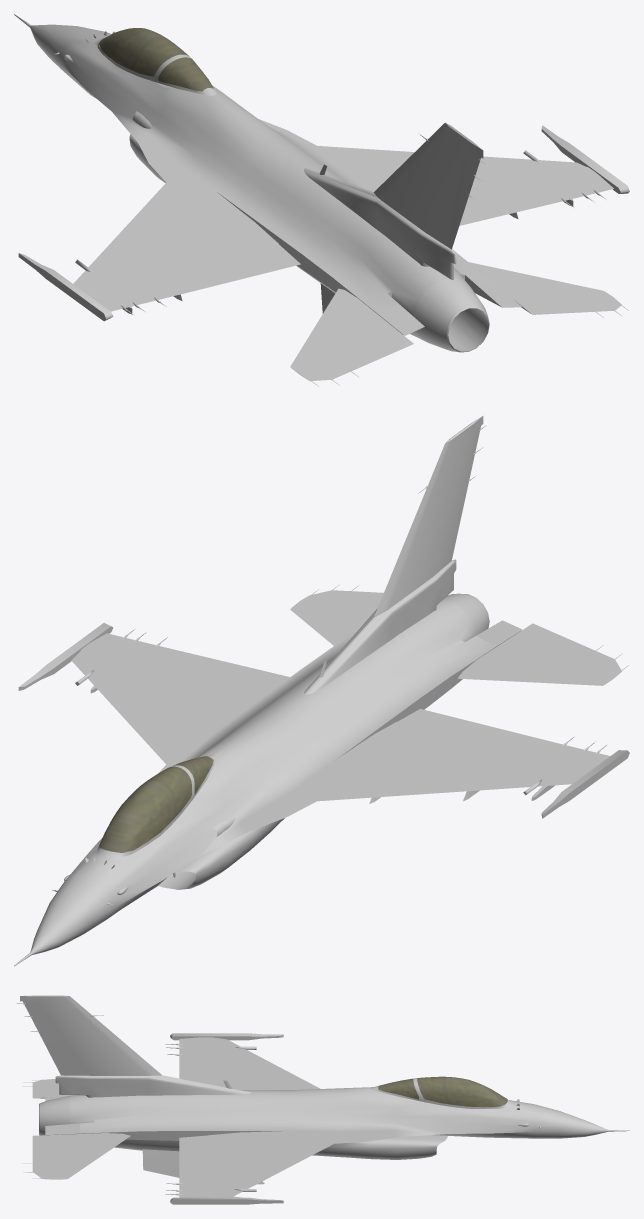
The picture shows the model from 3 angles, top to bottom: view 1: azimuth 30°, elevation 25°; view 2: azimuth 150°, elevation 25°; view 3: azimuth 270°, elevation 25°; orthographic projection. The views are drawn at different scales.
Parts seen in each view (by area): view 1: LOD0, ElevatorL01, EngineL01, ElevatorR01, AileronL01, Glass_Canopy01, VoletL01, RudderL01, AileronR01, VoletR01, Glass01, Canopy01 (+2 smaller); view 2: LOD0, ElevatorL01, Glass_Canopy01, VoletL01, VoletR01, ElevatorR01, AileronL01, AileronR01, RudderL01, Canopy01, EngineL01; view 3: LOD0, ElevatorR01, Glass_Canopy01, RudderL01, VoletR01, AileronR01, EngineL01, VoletL01, Canopy01, ElevatorL01, AileronL01, Glass01 (+1 smaller).
Part boxes in pixels (x1,y1,x2,y2): LOD0: (14, 14, 629, 340); ElevatorL01: (290, 288, 413, 386); EngineL01: (414, 279, 489, 352); ElevatorR01: (468, 262, 628, 317); AileronL01: (150, 244, 300, 299); Glass_Canopy01: (99, 28, 188, 76); VoletL01: (73, 182, 186, 289); RudderL01: (425, 149, 485, 249); AileronR01: (459, 192, 560, 225); VoletR01: (318, 146, 585, 166); Glass01: (158, 57, 213, 91); Canopy01: (86, 37, 190, 92); LOD0: (14, 416, 629, 966); ElevatorL01: (457, 623, 628, 685); Glass_Canopy01: (99, 766, 191, 852); VoletL01: (317, 774, 585, 801); VoletR01: (71, 651, 187, 764); ElevatorR01: (290, 584, 383, 645); AileronL01: (397, 709, 559, 749); AileronR01: (150, 646, 289, 690); RudderL01: (433, 426, 485, 576); Canopy01: (86, 765, 205, 866); EngineL01: (443, 593, 489, 635); LOD0: (20, 995, 629, 1204); ElevatorR01: (22, 1133, 130, 1179); Glass_Canopy01: (417, 1076, 507, 1107); RudderL01: (17, 1001, 90, 1075); VoletR01: (215, 1139, 333, 1197); AileronR01: (179, 1135, 209, 1182); EngineL01: (39, 1096, 69, 1135); VoletL01: (215, 1038, 320, 1089); Canopy01: (409, 1078, 513, 1113); ElevatorL01: (22, 1079, 73, 1098); AileronL01: (179, 1055, 203, 1082); Glass01: (378, 1078, 418, 1099).
Bounding box in the file's own units: 9.56 × 4.63 × 14.98.
